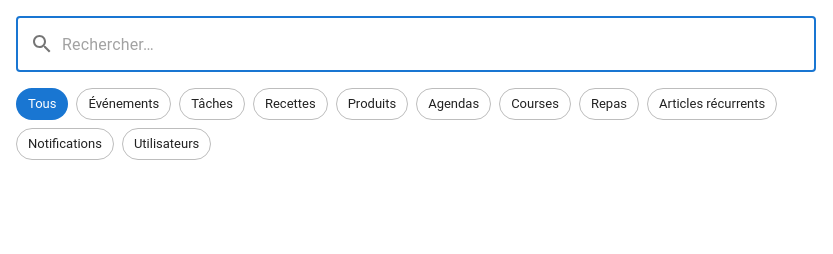
SearchPage › empty state shows message
This screenshot has width=833, height=254.
In the field with placeholder "Rechercher…": (439, 44) [62,16,816,72], type "xyz"
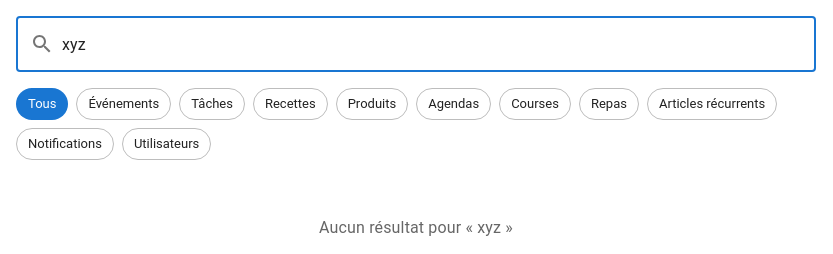
Check: the text "Aucun résultat pour « xyz »" is shown, box [319,218,513,237]
